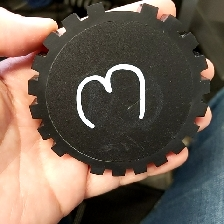gear: (26, 1, 211, 177)
missing: (49, 141, 106, 177), (86, 2, 159, 20)
